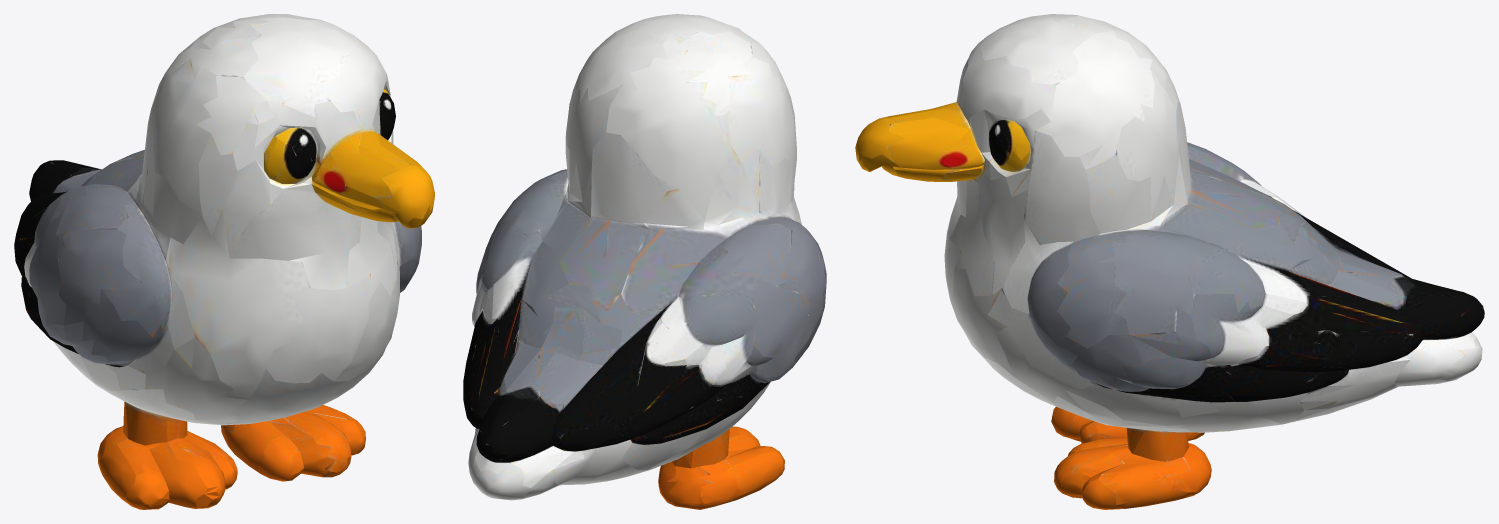
The model's file is strand-maage.glb.
3 renders of one model, left to right at view 1: azimuth 30°, elevation 25°; view 2: azimuth 150°, elevation 25°; view 3: azimuth 270°, elevation 25°, orthographic. The views are drawn at different scales.
Size of the model in its own units: 1.13 by 1.45 by 1.9.
Materials: 1 (1 with a texture image).
